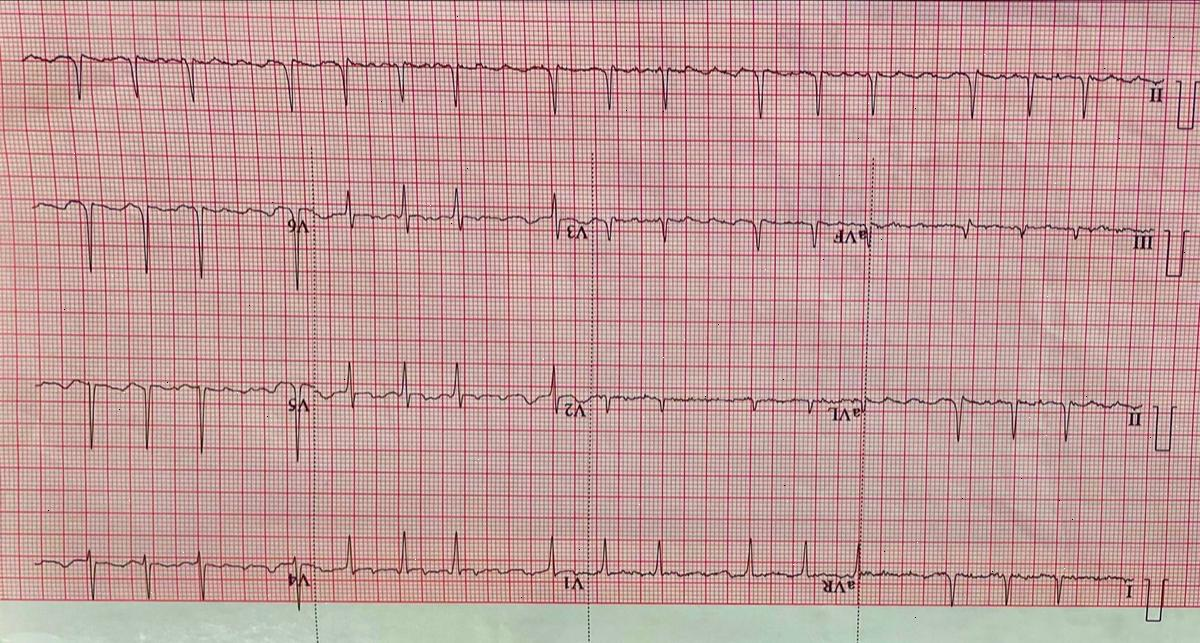Lead_I: (858, 532, 1142, 626)
Lead_II: (865, 371, 1148, 470)
Lead_III: (867, 192, 1161, 279)
Lead_II_ext: (13, 28, 1168, 146)
Lead_V1: (318, 518, 586, 616)
Lead_V2: (323, 348, 592, 455)
Lead_V3: (316, 169, 590, 264)
Lead_V4: (26, 526, 318, 638)
Lead_V5: (27, 342, 324, 486)
Lead_V6: (26, 166, 318, 308)
Lead_aVF: (590, 174, 882, 294)
Lead_aVL: (588, 365, 867, 461)
Lead_aVR: (586, 522, 864, 628)
